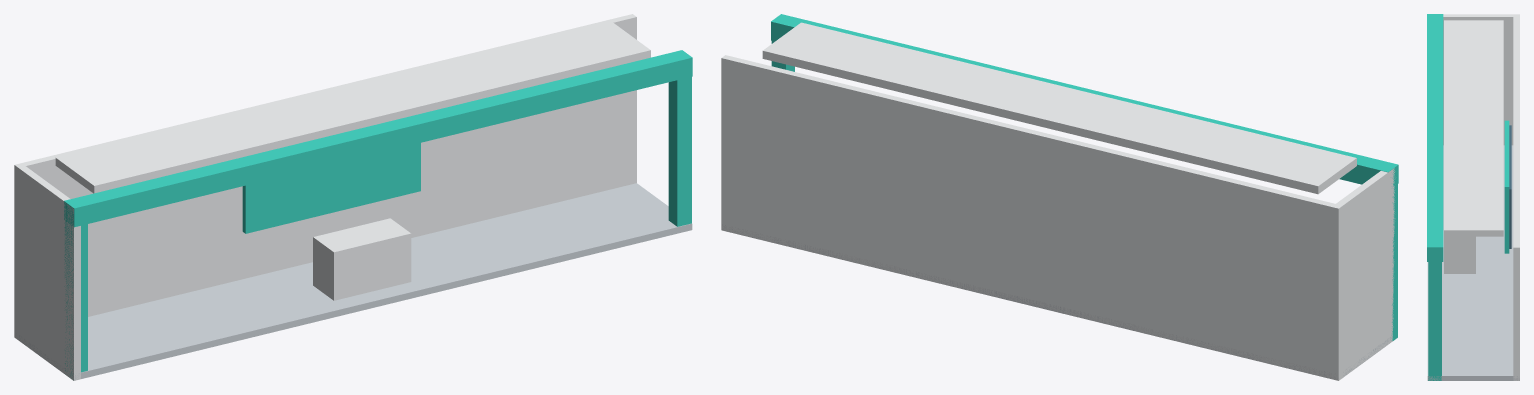
The picture shows the model from 3 angles, left to right: view 1: azimuth 30°, elevation 25°; view 2: azimuth 150°, elevation 25°; view 3: azimuth 270°, elevation 25°; orthographic projection. The views are drawn at different scales.
Parts seen in each view (by area): view 1: Exhibition Booth Concept; view 2: Exhibition Booth Concept; view 3: Exhibition Booth Concept.
Boxes of the visible parts, x1=… form: Exhibition Booth Concept: x1=14, y1=14, x2=692, y2=380; Exhibition Booth Concept: x1=721, y1=14, x2=1398, y2=380; Exhibition Booth Concept: x1=1427, y1=14, x2=1519, y2=380.
Bounding box in the file's own units: 12 × 3.34 × 2.01.
